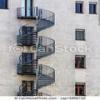stairs: (18, 44, 54, 74)
